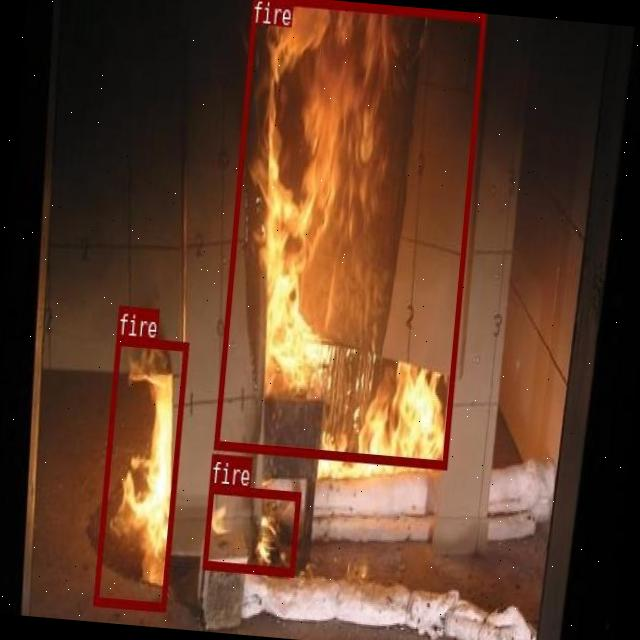fire: (213, 0, 484, 468), (92, 334, 188, 608), (201, 484, 300, 574)
